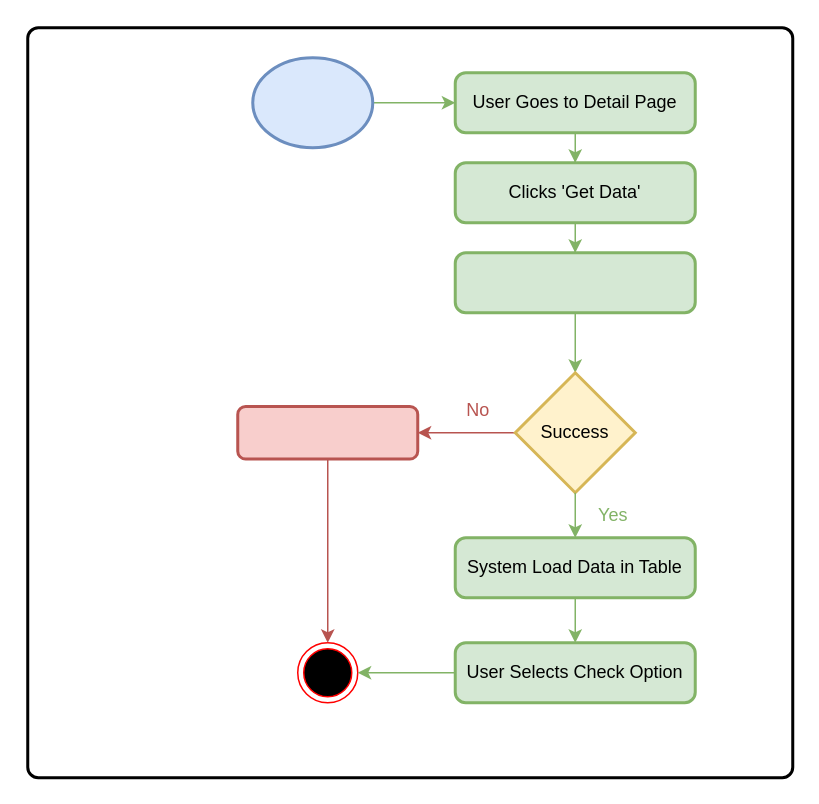
The diagram is 819 pixels wide and 804 high, and some of its shapes have lost their labels. The centre of each missing label's shape, as x and y in pixels:
"Error Message" goes at (327,432).
"Start" goes at (312,102).
"System calls DP API" goes at (574,282).
